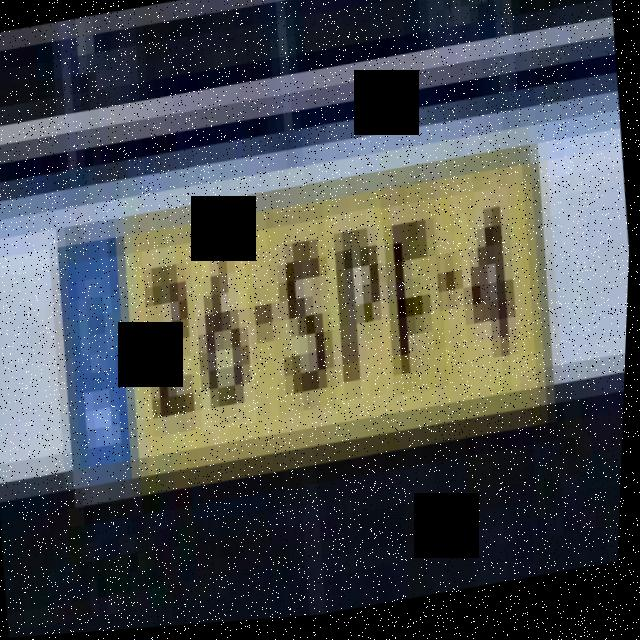4: (447, 180, 540, 402)
6: (187, 246, 264, 436)
F: (375, 184, 457, 403)
P: (323, 206, 401, 414)
S: (261, 208, 345, 426)
